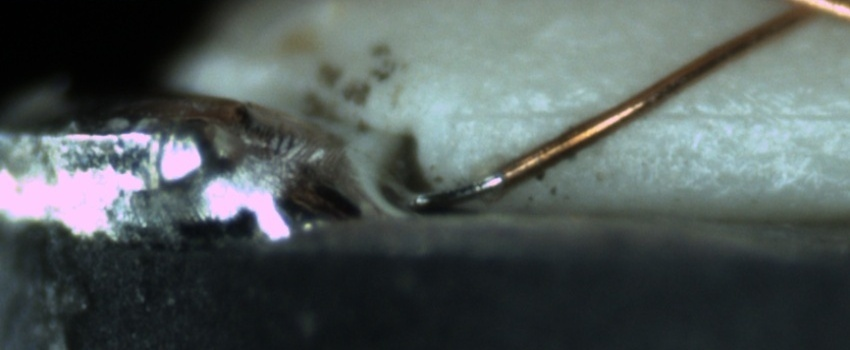CL: (770, 0, 847, 31)
DL: (450, 82, 849, 147)
TS: (407, 175, 508, 211)
TTCW: (417, 161, 531, 210)
